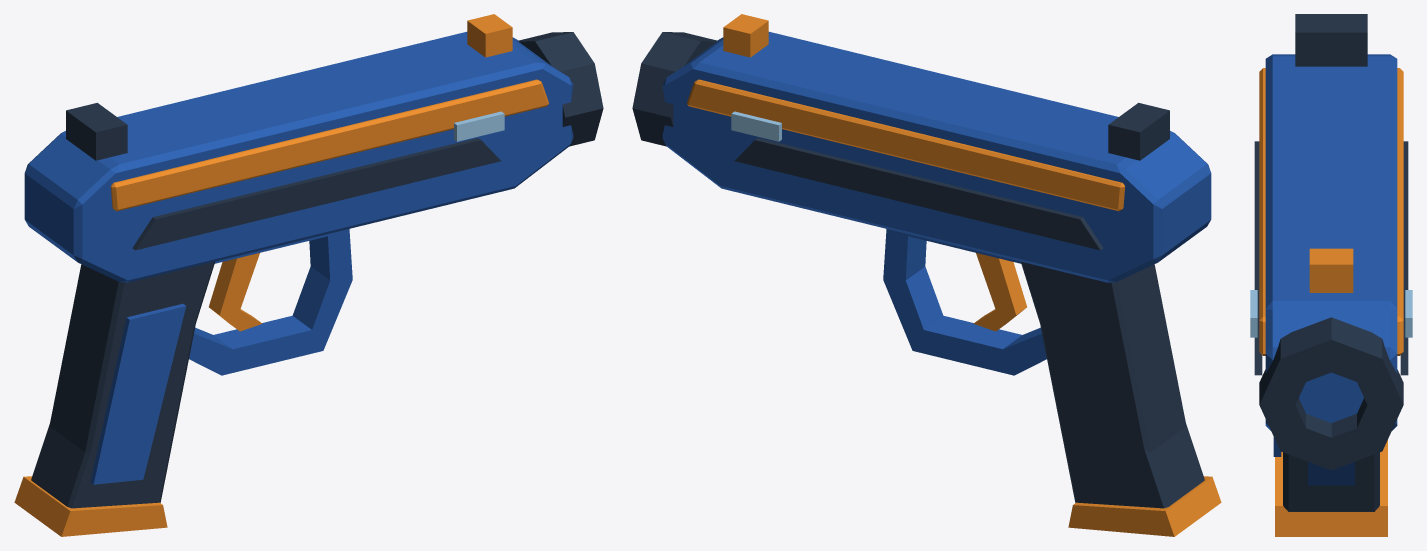
3 renders of one model, left to right at view 1: azimuth 30°, elevation 25°; view 2: azimuth 150°, elevation 25°; view 3: azimuth 270°, elevation 25°, orthographic. The views are drawn at different scales.
Visible parts, largest first — view 1: Receptor, Punho, Tampa superior, Rebaixo lateral, Painel do punho, Arco aberto, Base do punho, Terminal frontal, Mira posterior, Gatilho de jogo, Mira frontal, Detalhe de cor; view 2: Receptor, Punho, Tampa superior, Rebaixo lateral.001, Arco aberto, Base do punho, Terminal frontal, Mira posterior, Gatilho de jogo, Mira frontal, Detalhe de cor.001; view 3: Receptor, Terminal frontal, Tampa superior, Punho, Mira posterior, Base do punho, Mira frontal, Rebaixo lateral, Rebaixo lateral.001, Arco aberto, Detalhe de cor, Detalhe de cor.001.
Part boxes in pixels (x1,y1,x2,y2): Receptor: (24,31,573,282); Punho: (31,261,214,508); Tampa superior: (110,79,548,211); Rebaixo lateral: (132,138,501,250); Painel do punho: (90,303,186,484); Arco aberto: (189,229,352,375); Base do punho: (14,476,167,536); Terminal frontal: (518,32,603,146); Mira posterior: (66,102,127,160); Gatilho de jogo: (209,253,262,331); Mira frontal: (467,14,512,57); Detalhe de cor: (454,111,504,141); Receptor: (662,31,1211,282); Punho: (1021,261,1204,508); Tampa superior: (687,79,1125,211); Rebaixo lateral.001: (734,138,1103,250); Arco aberto: (883,229,1046,375); Base do punho: (1068,476,1221,536); Terminal frontal: (632,32,717,146); Mira posterior: (1108,102,1169,160); Gatilho de jogo: (973,253,1026,331); Mira frontal: (723,14,768,57); Detalhe de cor.001: (731,111,781,141); Receptor: (1265,54,1397,430); Terminal frontal: (1259,317,1403,470); Tampa superior: (1259,68,1403,355); Punho: (1283,452,1379,511); Mira posterior: (1295,14,1367,66); Base do punho: (1275,440,1387,536); Mira frontal: (1309,248,1353,292); Rebaixo lateral: (1254,141,1262,375); Rebaixo lateral.001: (1400,141,1408,375); Arco aberto: (1308,462,1354,485); Detalhe de cor: (1250,290,1257,337); Detalhe de cor.001: (1405,290,1412,337).
Bounding box in the file's own units: 2.37 × 1.71 × 0.518.
